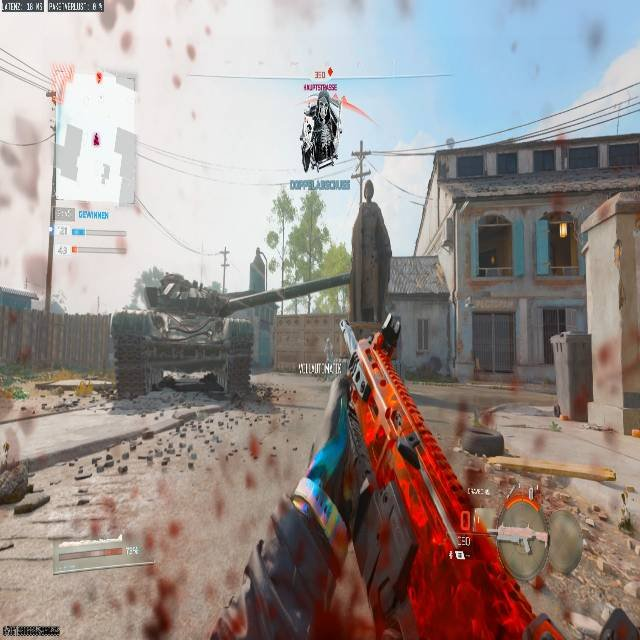player: (302, 93, 341, 170)
